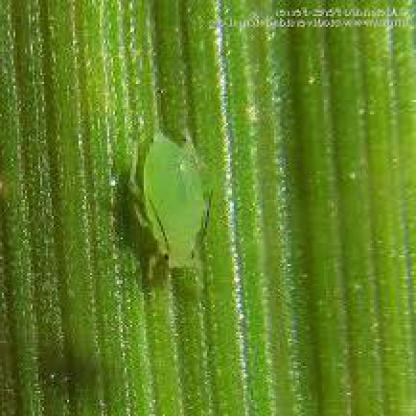schizaphis graminum: (145, 132, 208, 273)
